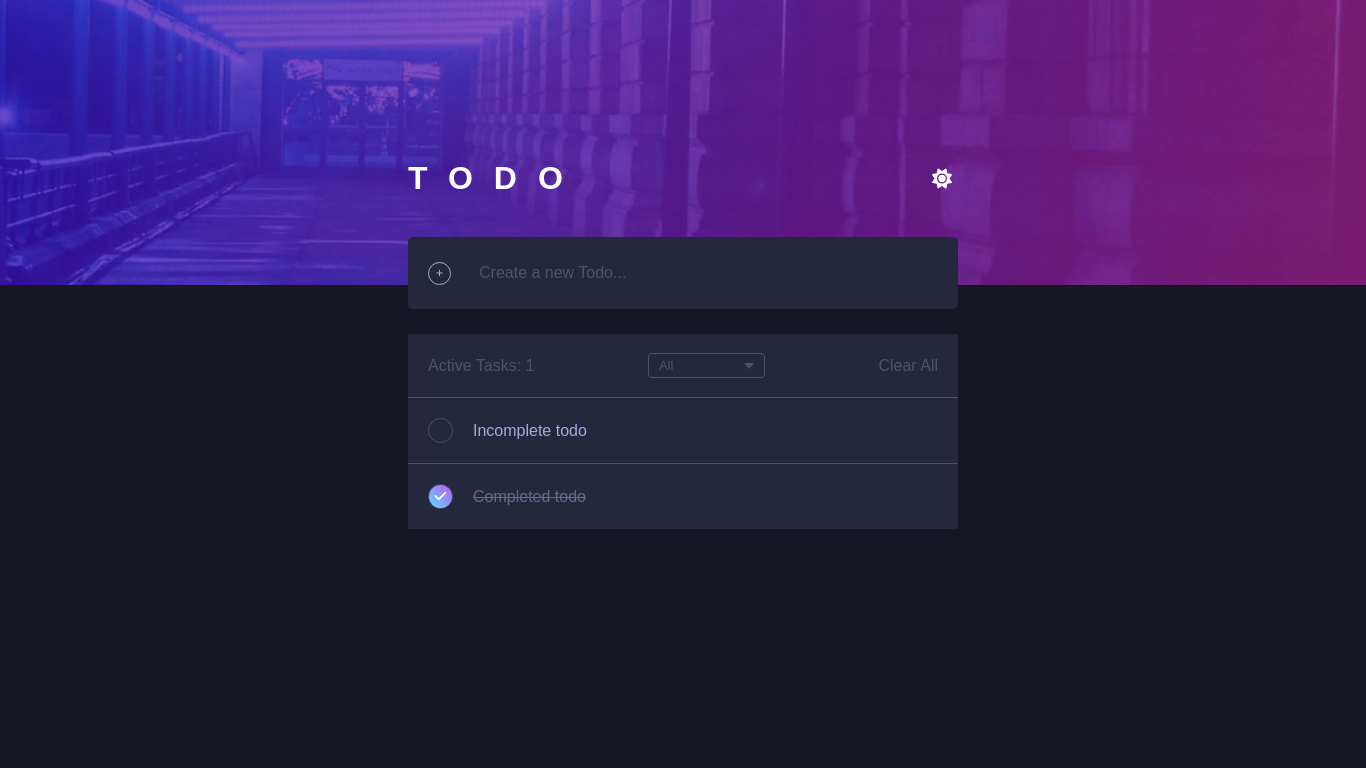
it: filter › shows all todos again when switching back to "all"
Select "Completed" in the dropdown: [706, 366] box [648,353,765,378]
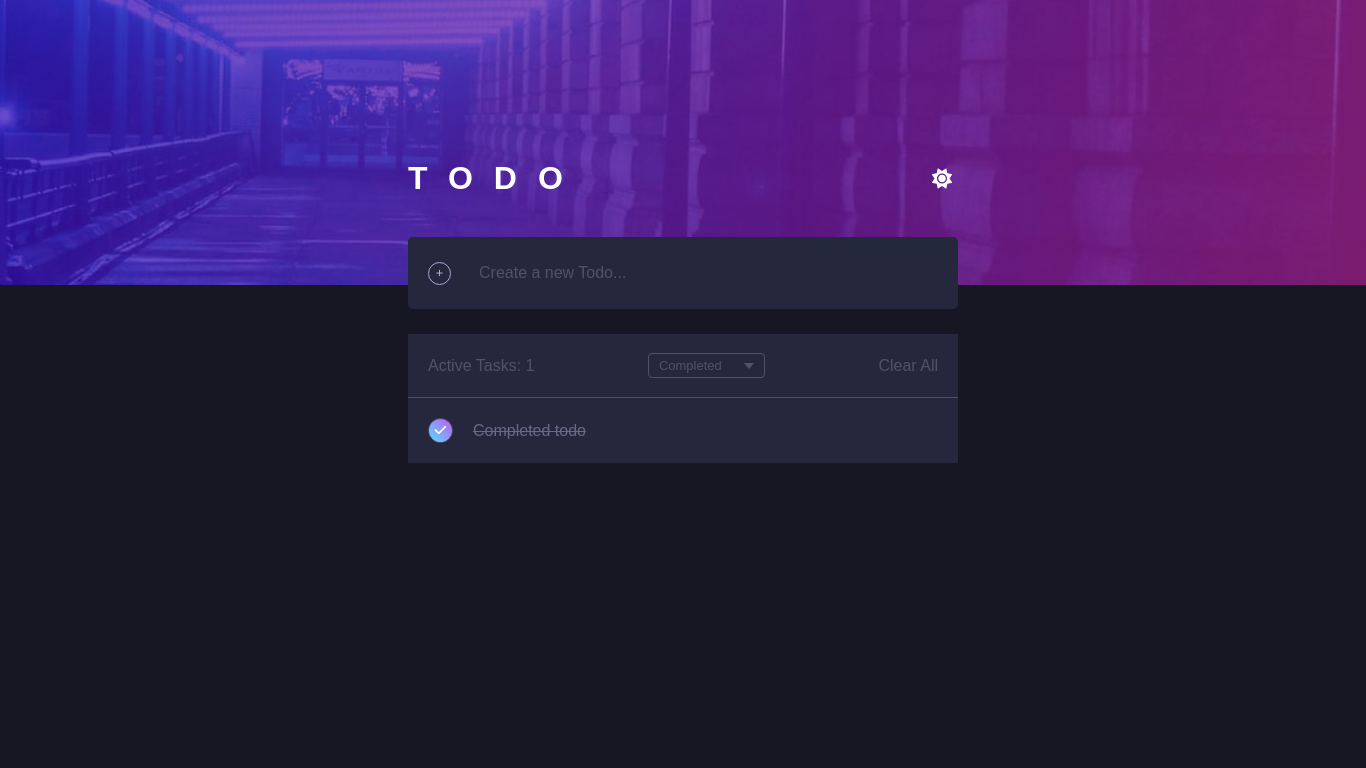
Select "All" in the dropdown: [706, 366] box [648,353,765,378]
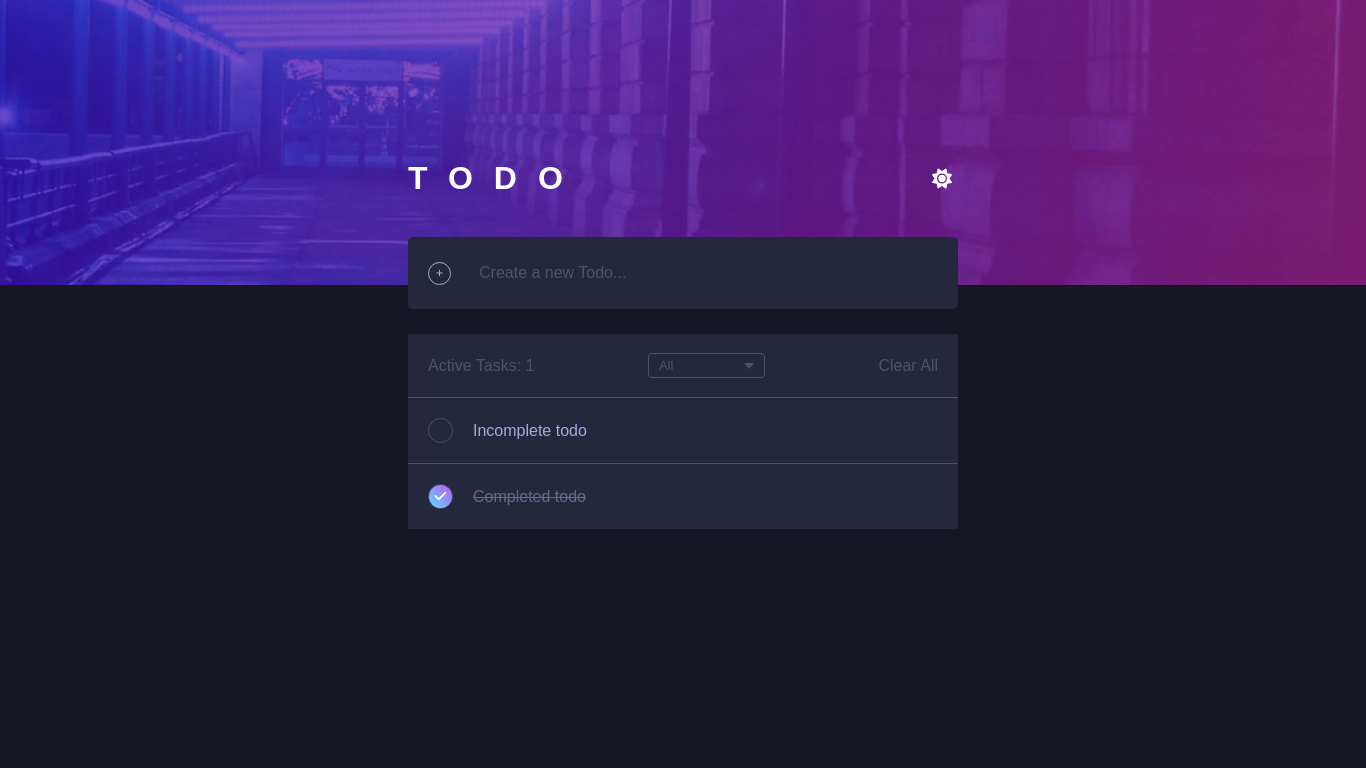
Check: the text "Completed todo" is shown, box [473,488,586,504]
Check: the text "Incomplete todo" is shown, box [473,422,587,438]
